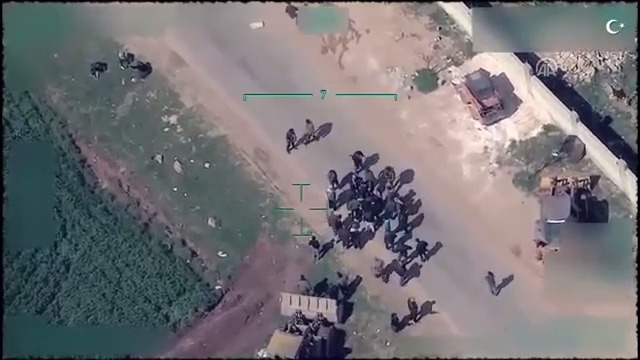insan: (479, 263, 501, 297), (282, 121, 303, 155), (301, 114, 320, 148), (346, 147, 371, 172), (380, 226, 402, 254), (413, 235, 431, 264), (307, 229, 321, 264), (324, 165, 343, 189), (406, 298, 423, 324)
